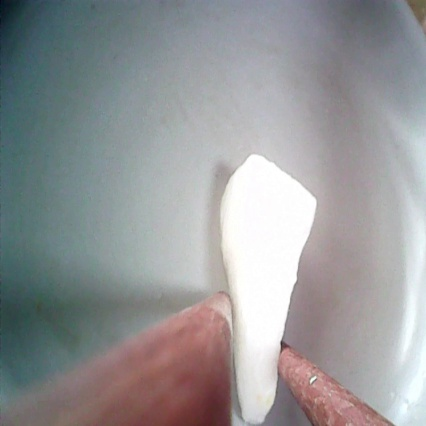white_chinese-yam: (213, 150, 322, 426)
